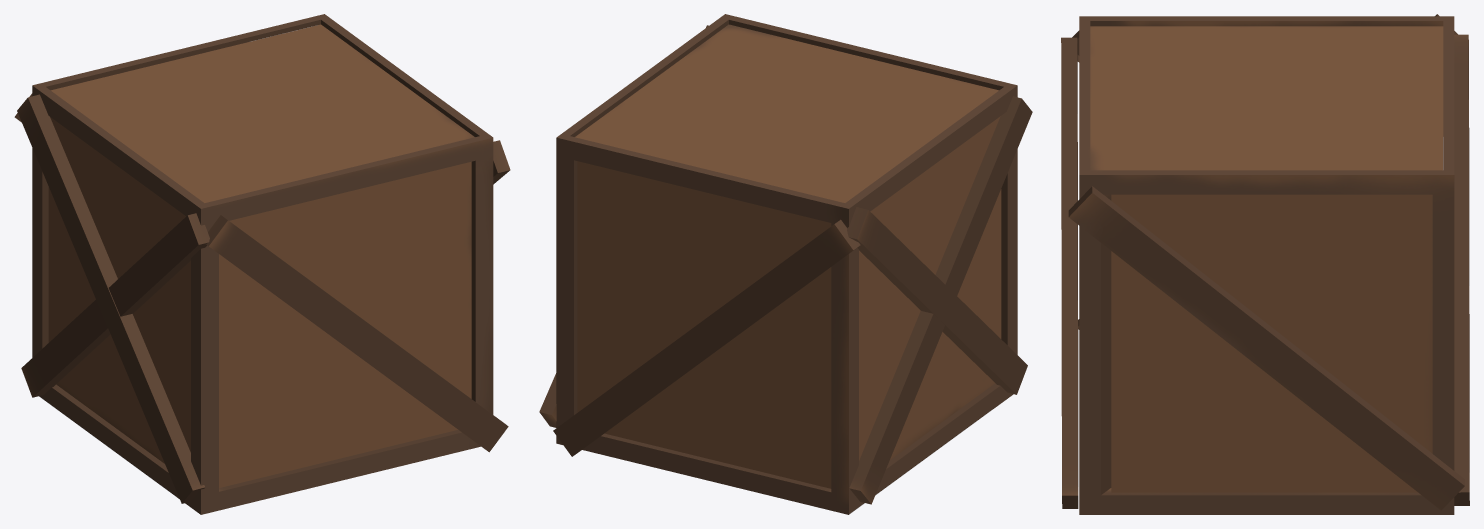
The model's file is crateremix2.fbx.
The picture shows the model from 3 angles, left to right: view 1: azimuth 30°, elevation 25°; view 2: azimuth 150°, elevation 25°; view 3: azimuth 270°, elevation 25°; orthographic projection. The views are drawn at different scales.
Parts seen in each view (by area): view 1: Cube; view 2: Cube; view 3: Cube.
Boxes of the visible parts, left/top/right/bottom form: Cube: left=14, top=14, right=510, bottom=514; Cube: left=539, top=14, right=1032, bottom=514; Cube: left=1061, top=14, right=1469, bottom=514.
Size of the model in its own units: 824 by 768 by 828.
